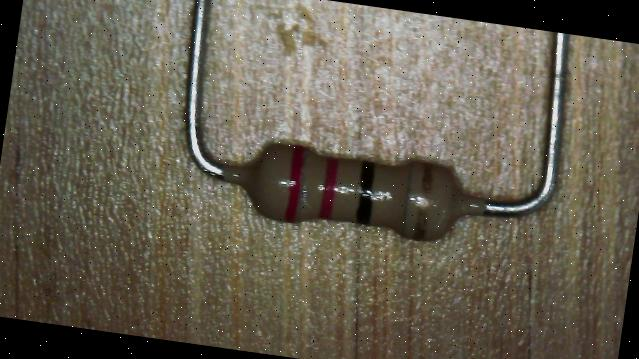black: (354, 158, 376, 225)
gold: (411, 161, 438, 242)
orange: (317, 155, 340, 221)
red: (283, 143, 307, 223)
resistor: (212, 118, 494, 268)
